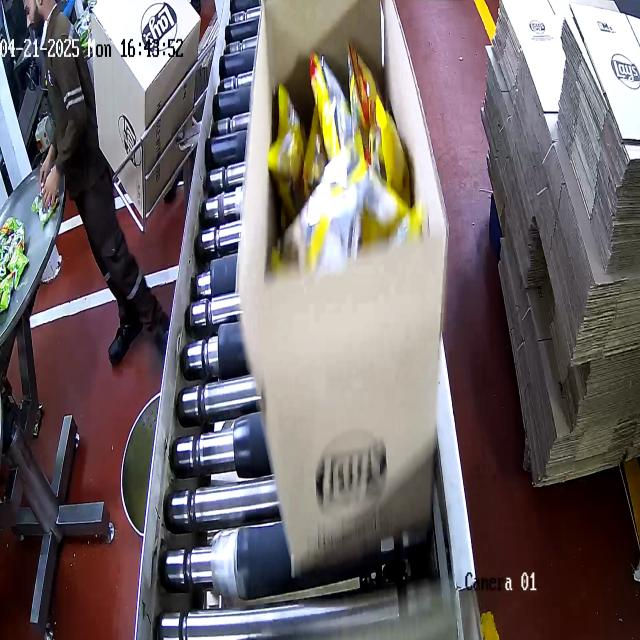SALTED: (256, 65, 420, 251)
